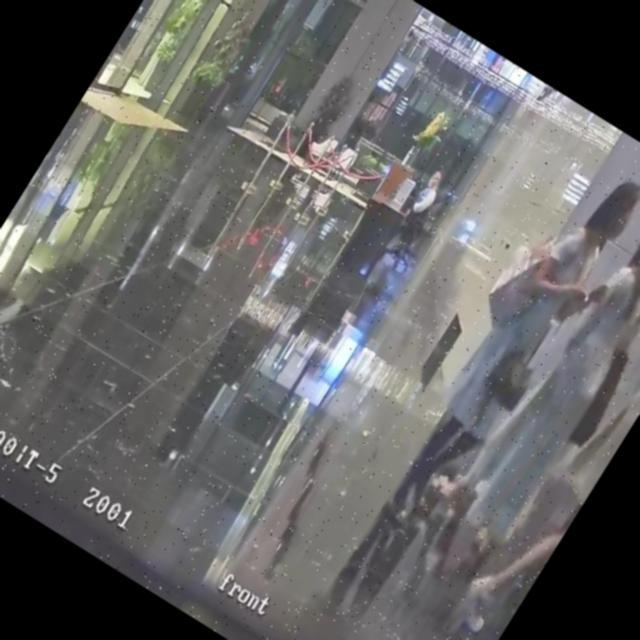person: (369, 154, 640, 547), (417, 198, 640, 605), (449, 195, 640, 640), (488, 223, 548, 304), (406, 167, 449, 220)
